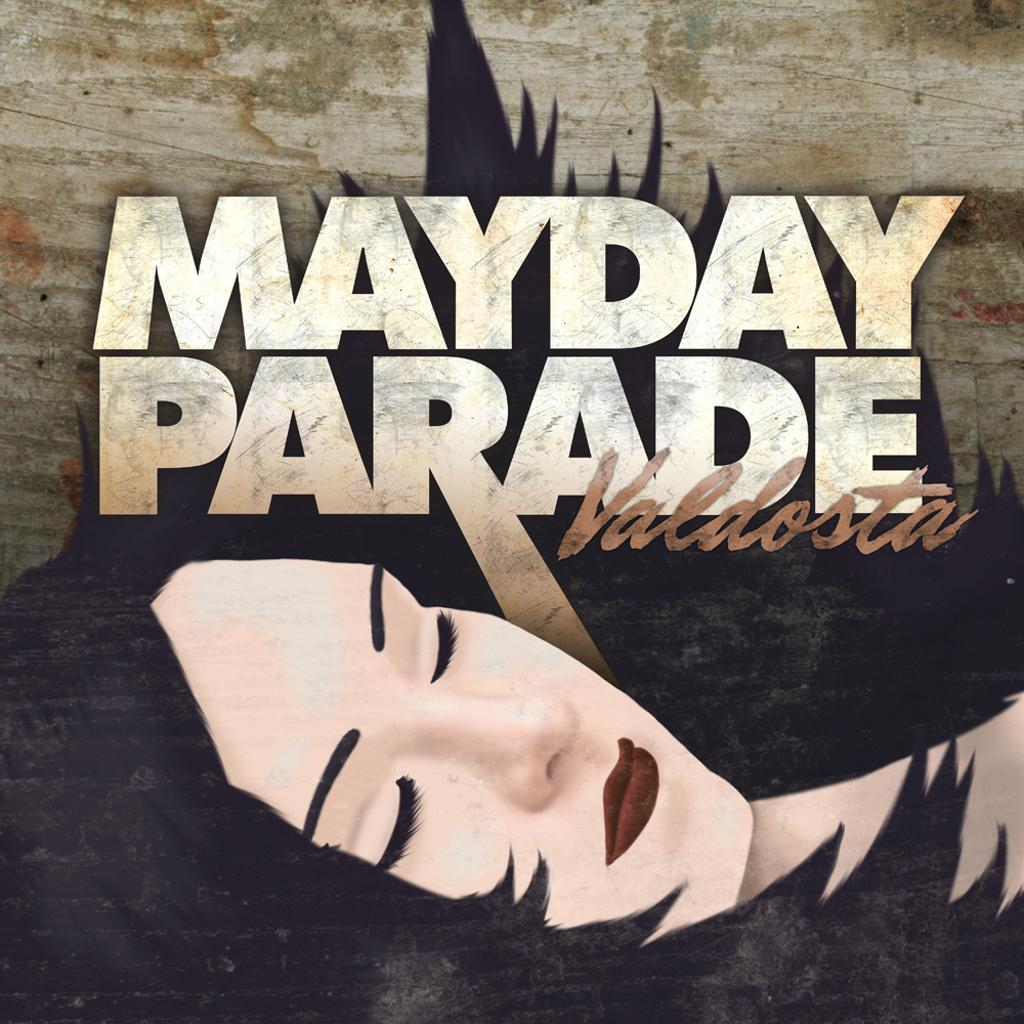face: (163, 553, 753, 933)
